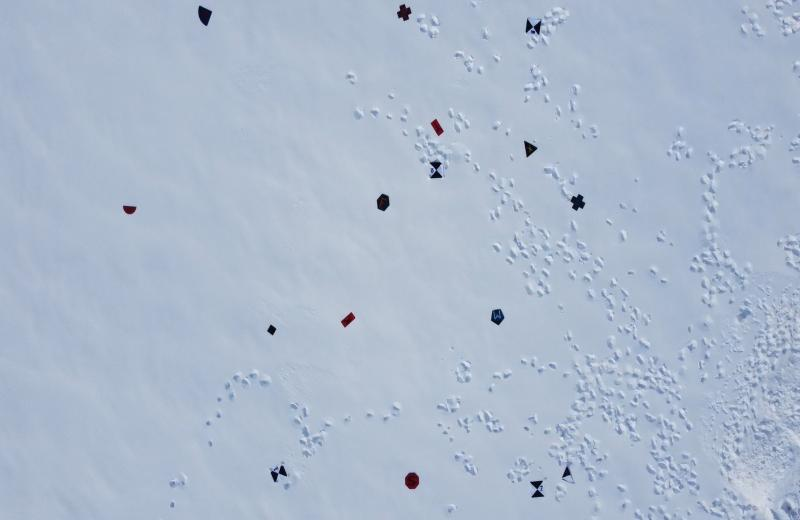Cross: (396, 2, 412, 22), (570, 194, 586, 212)
Hexagon: (374, 191, 390, 213)
Octagon: (405, 472, 420, 490)
Pentagon: (491, 307, 505, 326)
Quarter Circle: (196, 5, 215, 27)
Rectangle: (430, 117, 445, 137), (341, 311, 355, 326)
Semi Circle: (122, 204, 138, 215)
Square: (267, 323, 276, 336)
Triangle: (522, 139, 538, 159)
